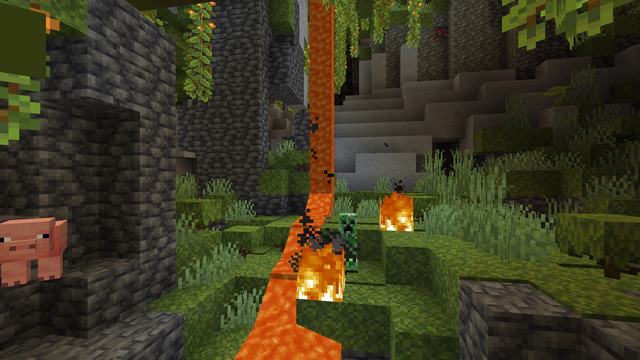cochons: (0, 217, 88, 286)
creepers: (336, 210, 358, 273)
